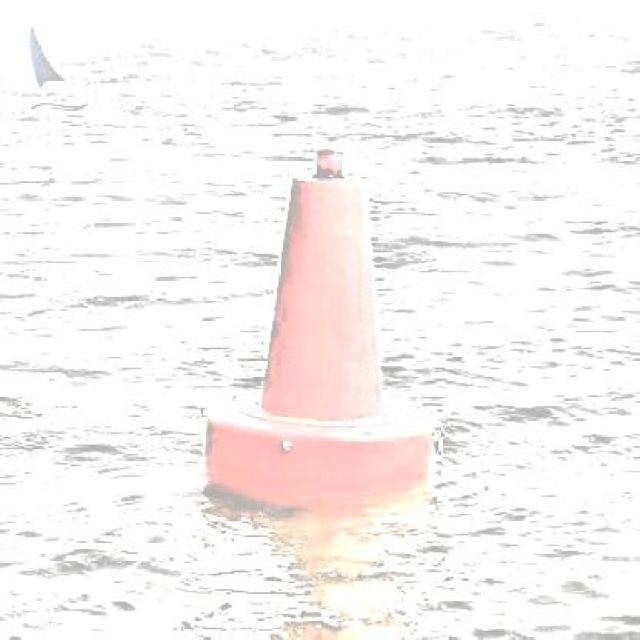Red Buoy: (208, 181, 425, 494)
